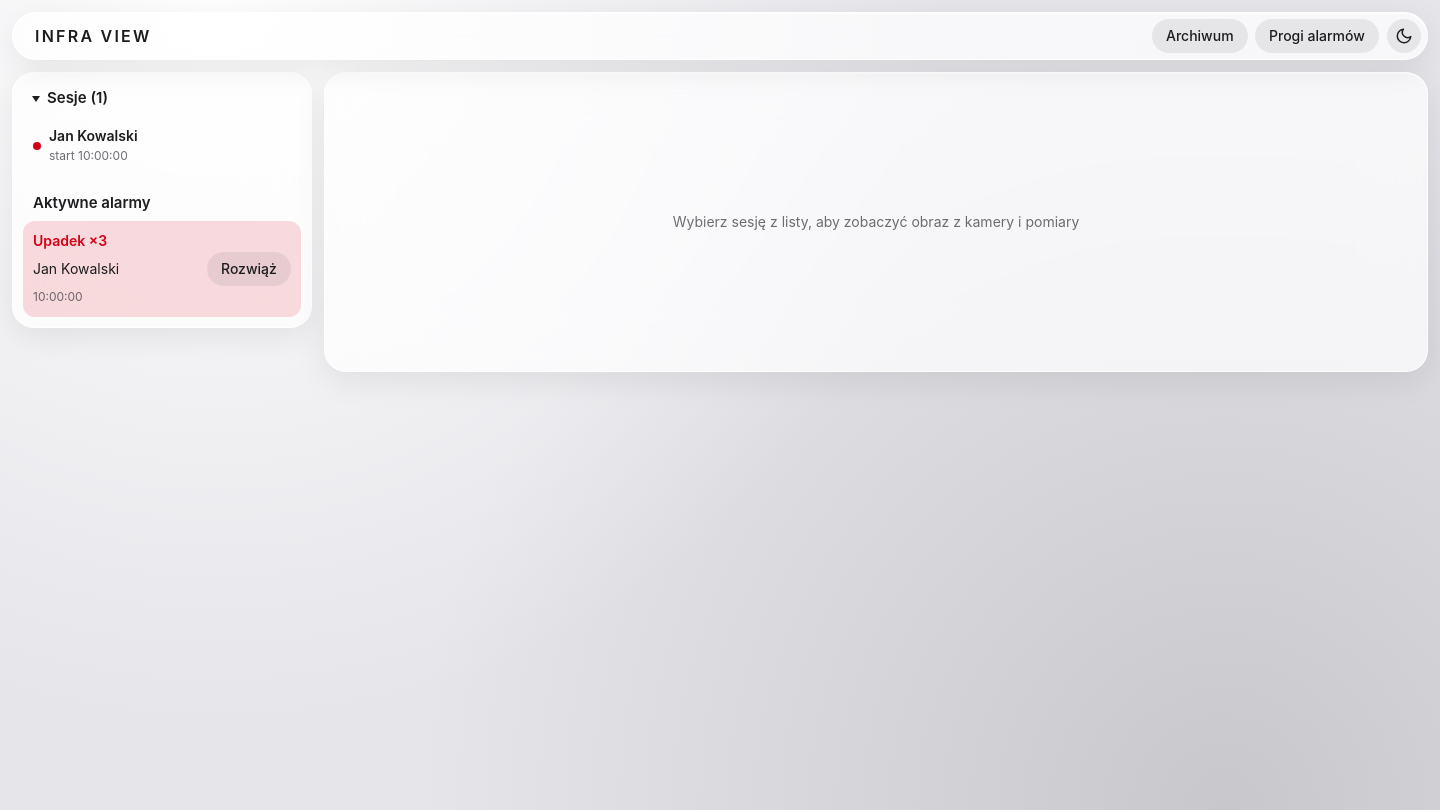
Scenario: okno oczekiwania wyłącza otwarte okno i znika samo, gdy serwer wraca
Click the button "Archiwum" at x=1199, y=36, box [1152,19,1247,53]
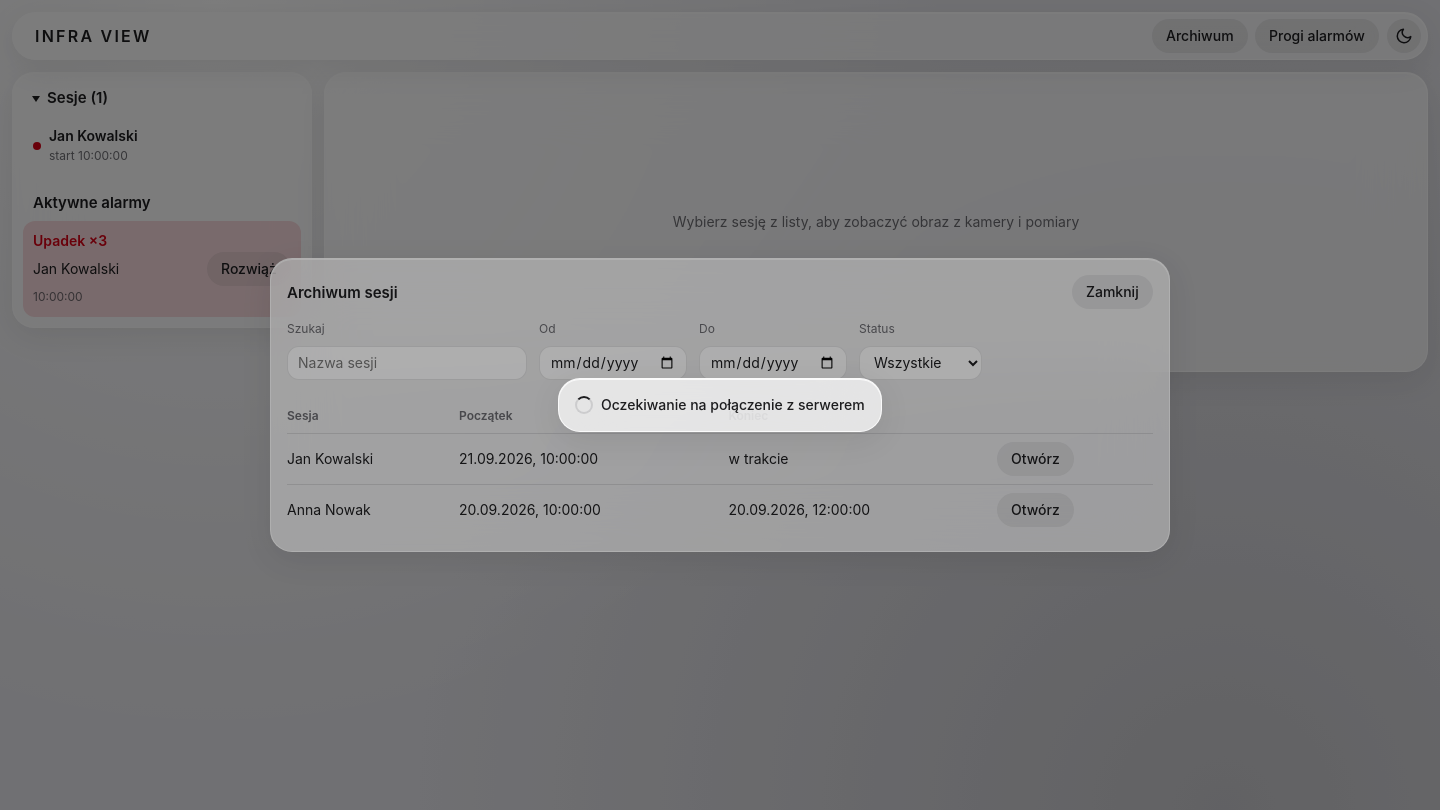
expect the message "Oczekiwanie na połączenie z serwerem" is shown: met, box [558,378,882,432]
Press Escape
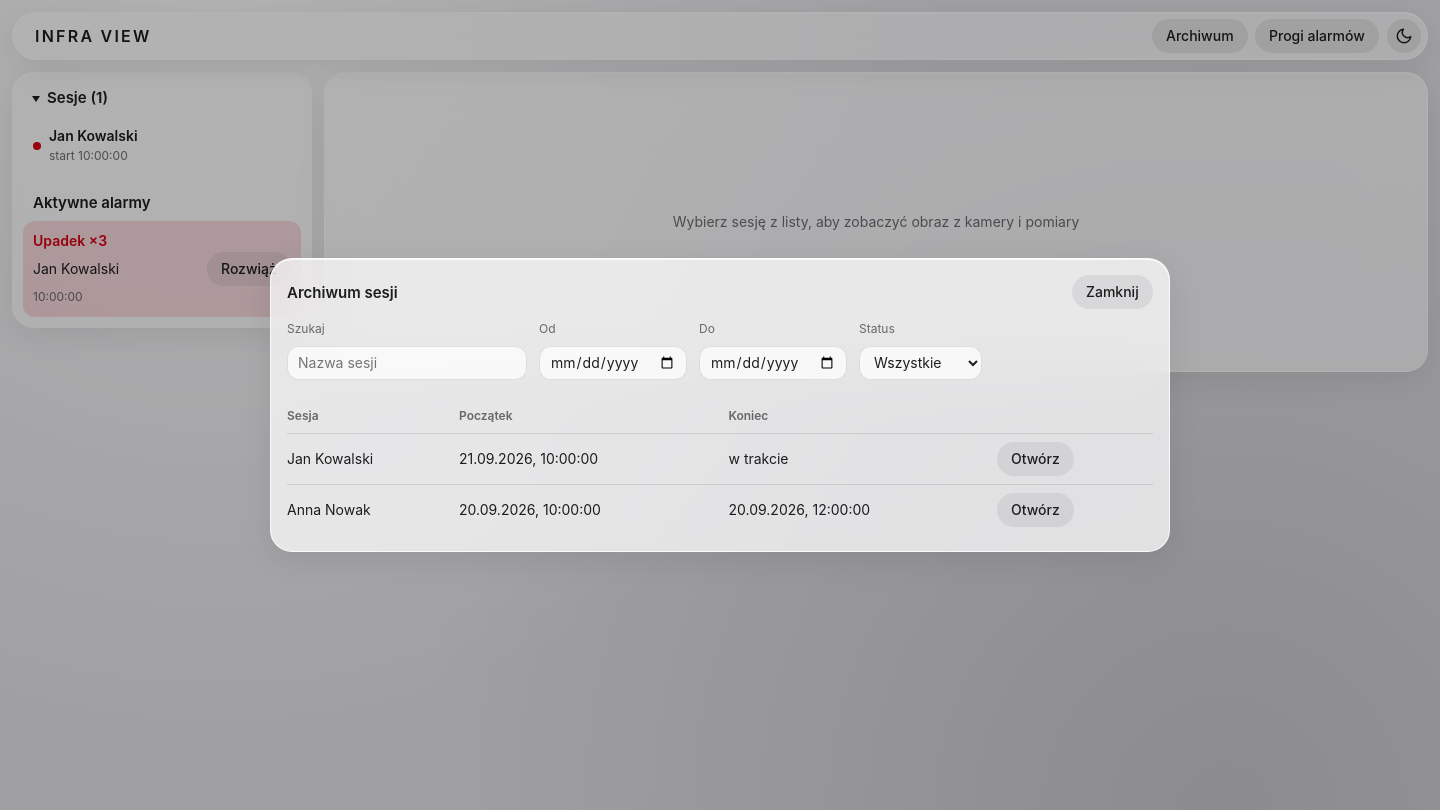
expect the message "Oczekiwanie na połączenie z serwerem" is gone: met
